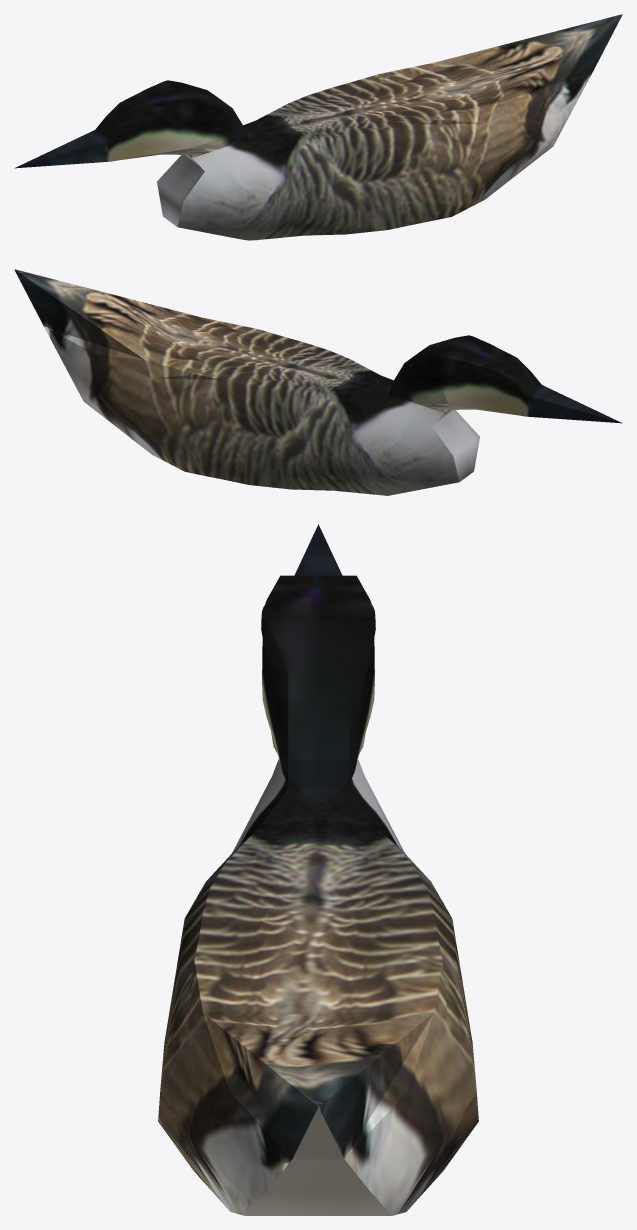
File: pato.obj
3 renders of one model, top to bottom at view 1: azimuth 30°, elevation 25°; view 2: azimuth 150°, elevation 25°; view 3: azimuth 270°, elevation 25°, orthographic. The views are drawn at different scales.
Visible parts, largest first — view 1: Box002; view 2: Box002; view 3: Box002.
Part boxes in pixels (bbox=[...]): Box002: bbox=[14, 14, 622, 240]; Box002: bbox=[14, 269, 622, 495]; Box002: bbox=[158, 524, 478, 1215].
Size of the model in its own units: 188 by 47.65 by 42.9.
1 material, 1 textured.
